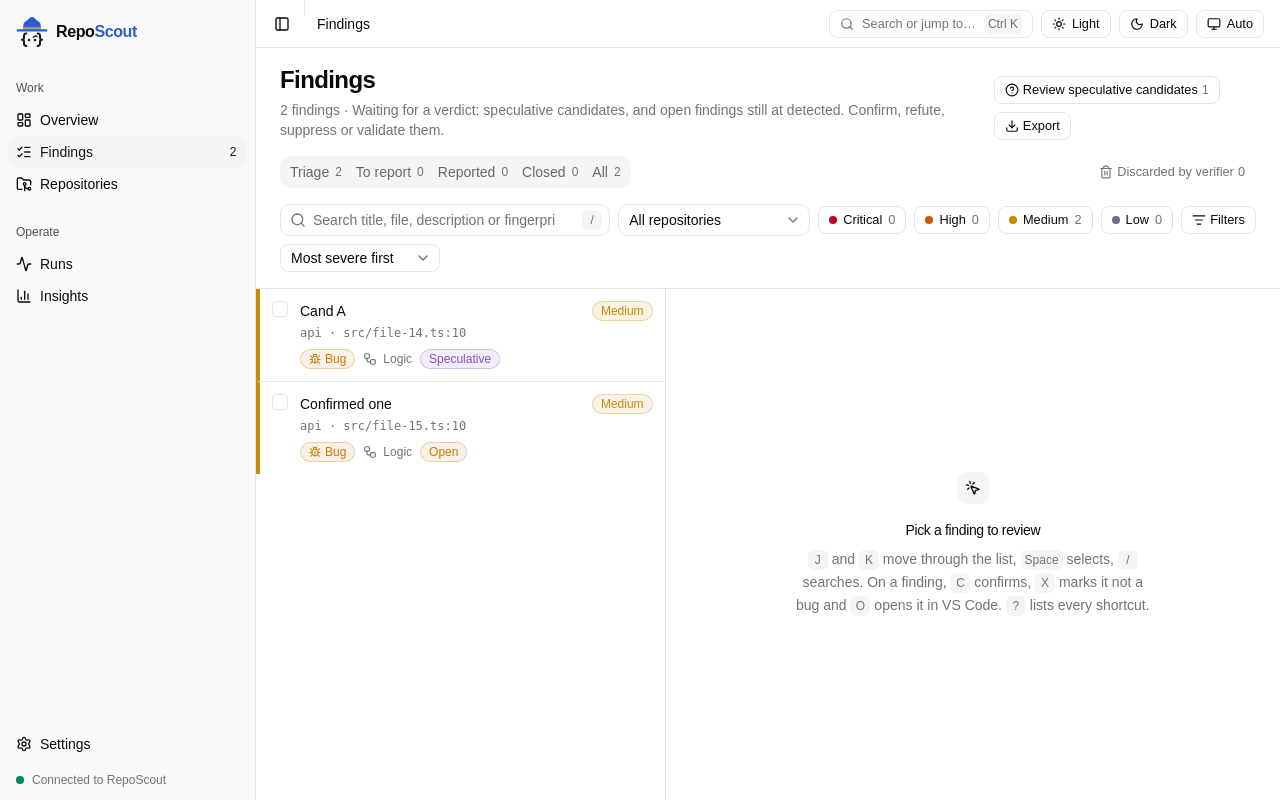
Test case: bulk actions › offers no verdict for a selection with nothing in common
Click the checkbox named "Select Cand A": x=280, y=309 [272,301,288,317]
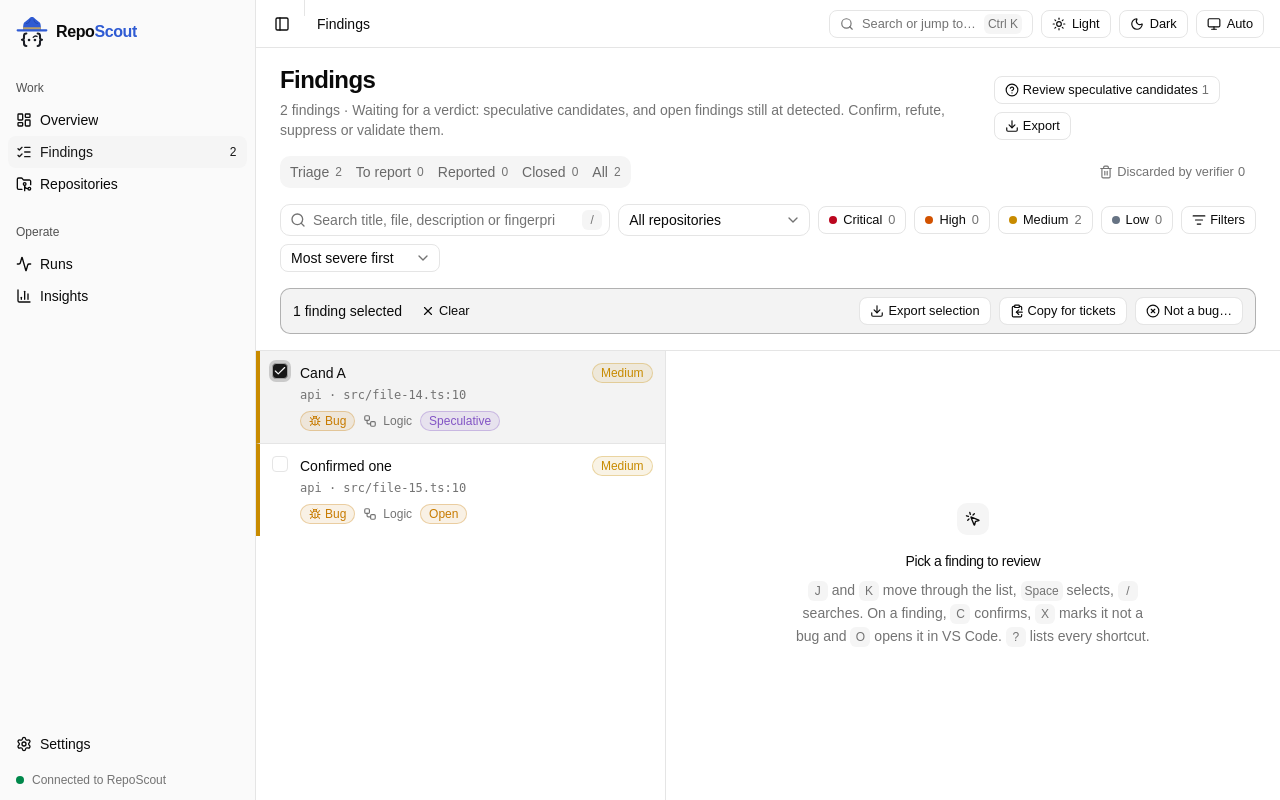
Click the checkbox named "Select Confirmed one": x=280, y=464 [272,456,288,472]
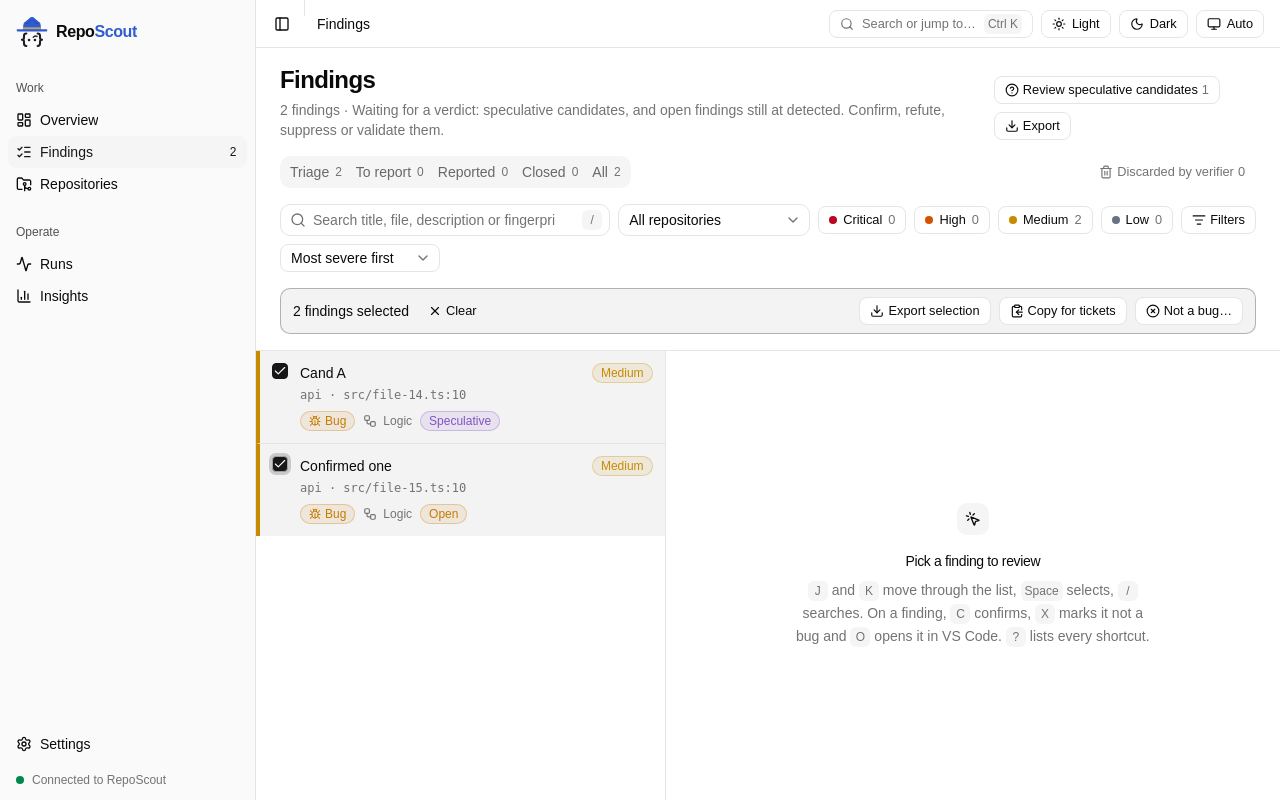
Click the button "Not a bug…": x=1189, y=311 [1135,297,1243,325]
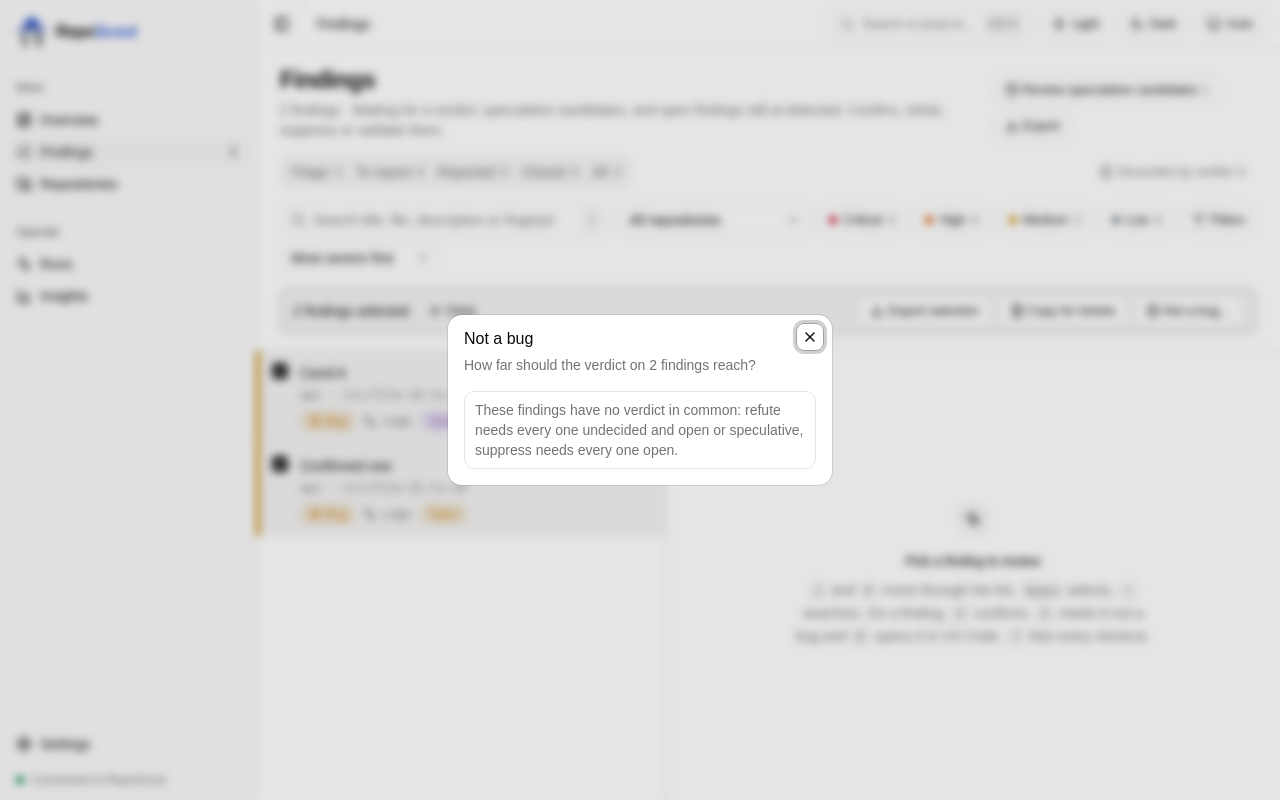
Expected: the text "no verdict in common" is shown, [475,402,804,458]
